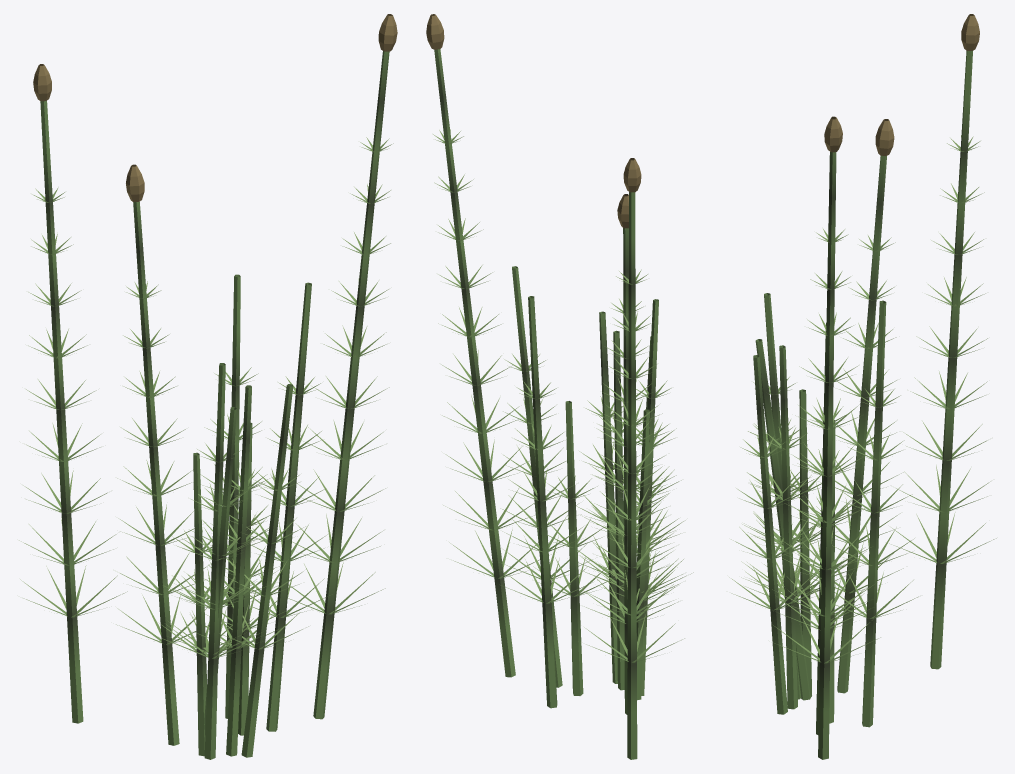
Rendered from horsetail_b.glb.
3 views of the same model, side by side, from view 1: azimuth 30°, elevation 25°; view 2: azimuth 150°, elevation 25°; view 3: azimuth 270°, elevation 25° (orthographic). The views are drawn at different scales.
Visible parts, largest first — view 1: horsetail_b; view 2: horsetail_b; view 3: horsetail_b.
Boxes of the visible parts, left/top/right/bottom form: horsetail_b: left=19, top=14, right=397, bottom=759; horsetail_b: left=426, top=14, right=693, bottom=759; horsetail_b: left=729, top=14, right=996, bottom=759.
Bounding box in the file's own units: 0.6937 × 1.41 × 0.5219.
